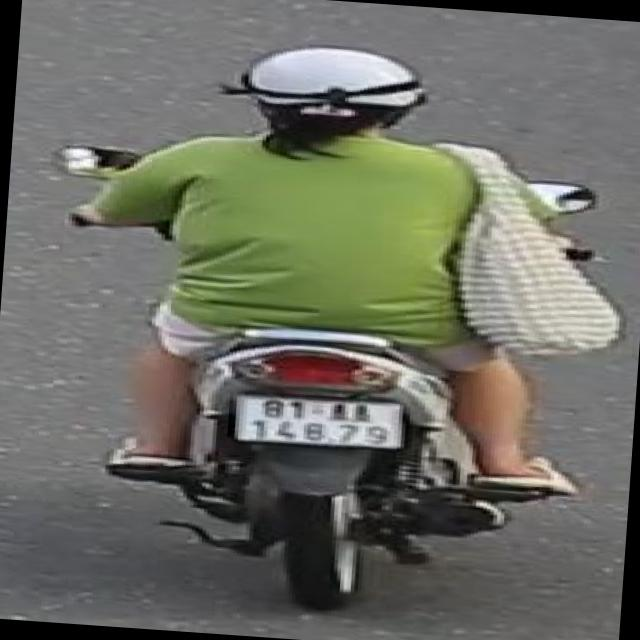LP: (227, 390, 410, 456)
helmet: (242, 32, 433, 150)
